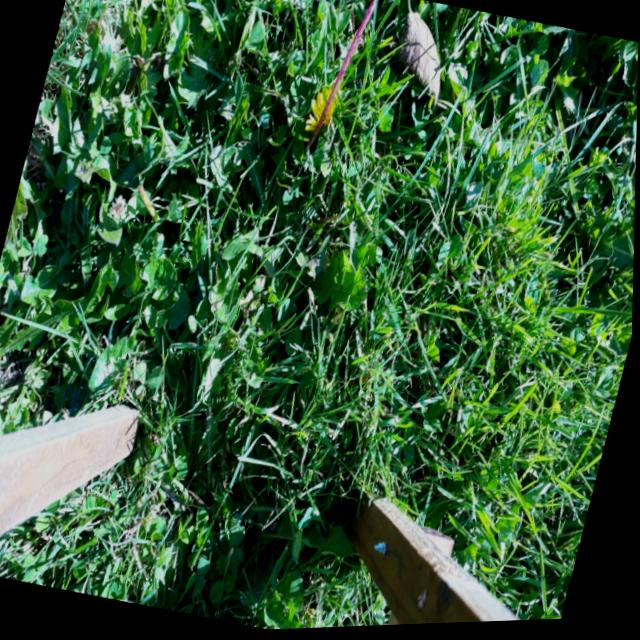base: (297, 132, 320, 164)
